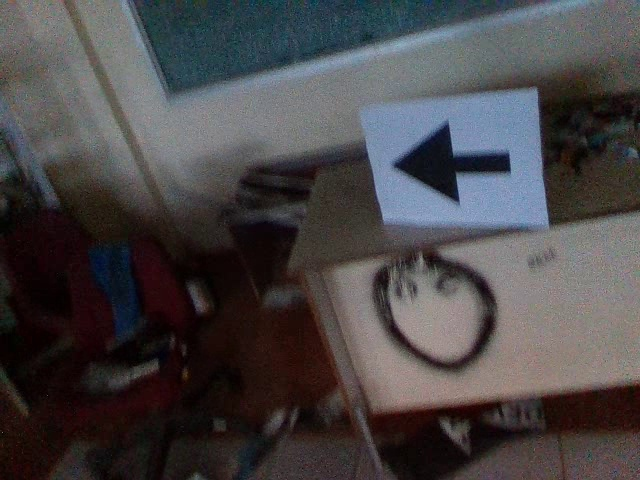Left: (383, 113, 519, 212)
